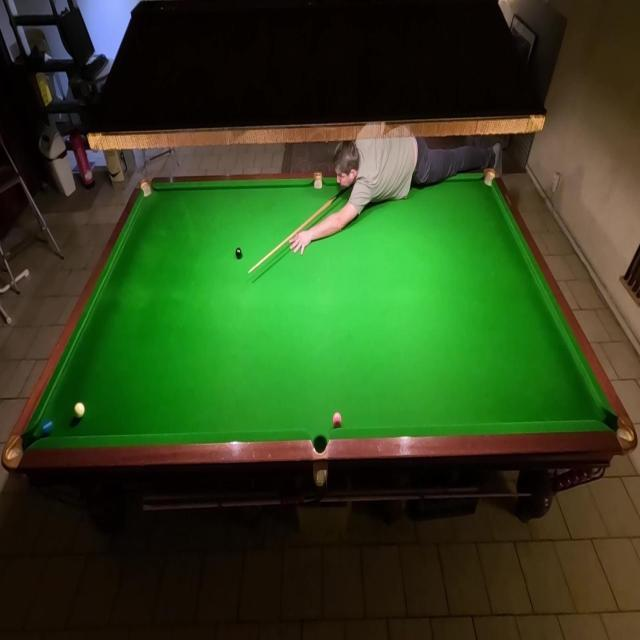Ball: (40, 419, 54, 436), (74, 402, 86, 418), (332, 412, 342, 428), (236, 247, 242, 259)
